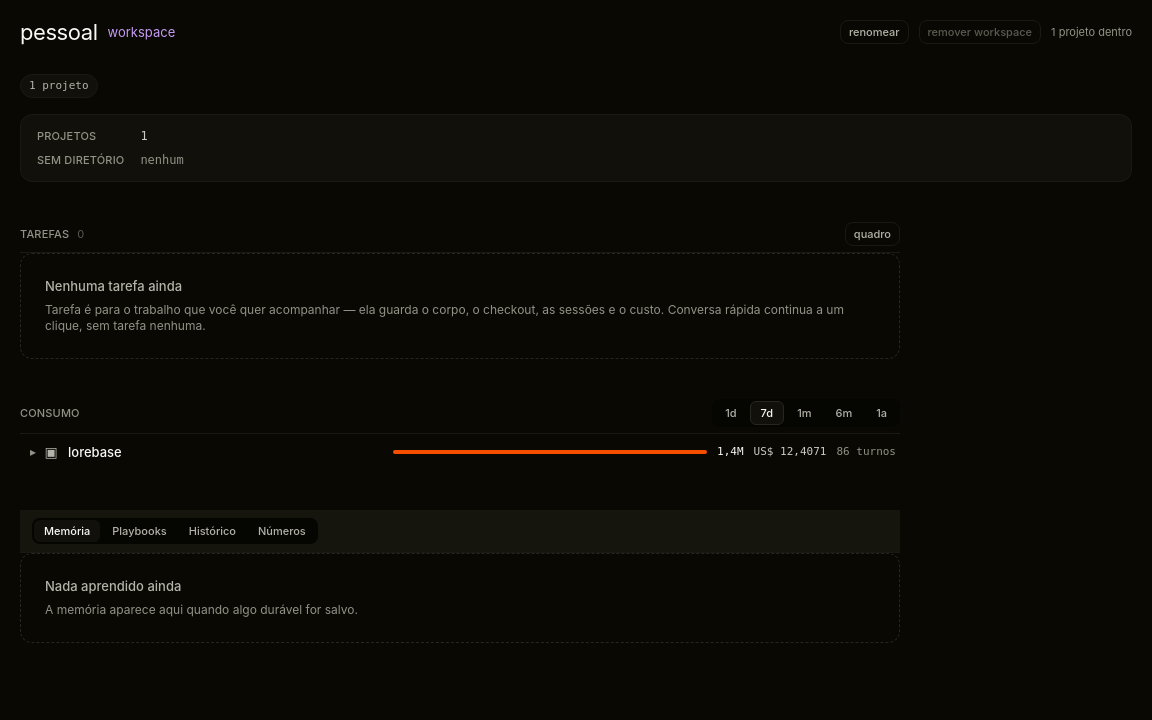
Test: a divisão por agente › com dois, a linha abre e mostra o que cada um gastou
Click the button named "abrir a divisão por agente" at (30, 452), box [24,442,36,462]
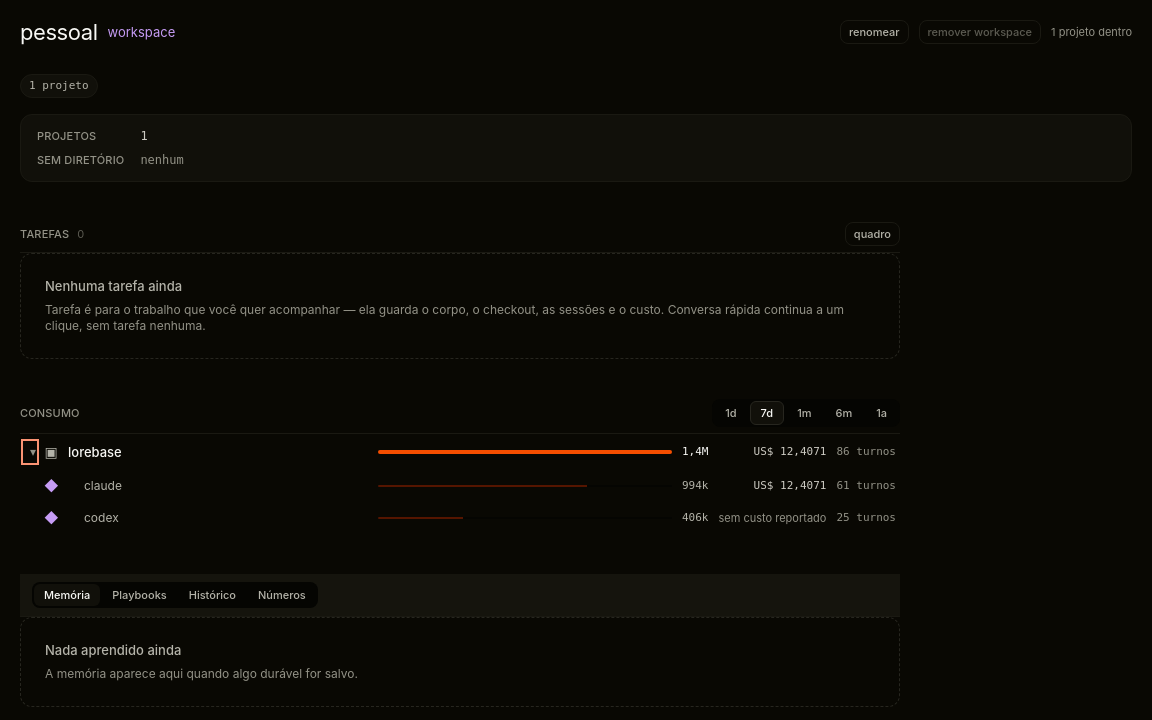
Expected: the text "claude" is shown, [84,478,122,493]
Expected: the text "codex" is shown, [84,510,119,525]
Expected: the text "994k" is shown, [682,478,708,494]
